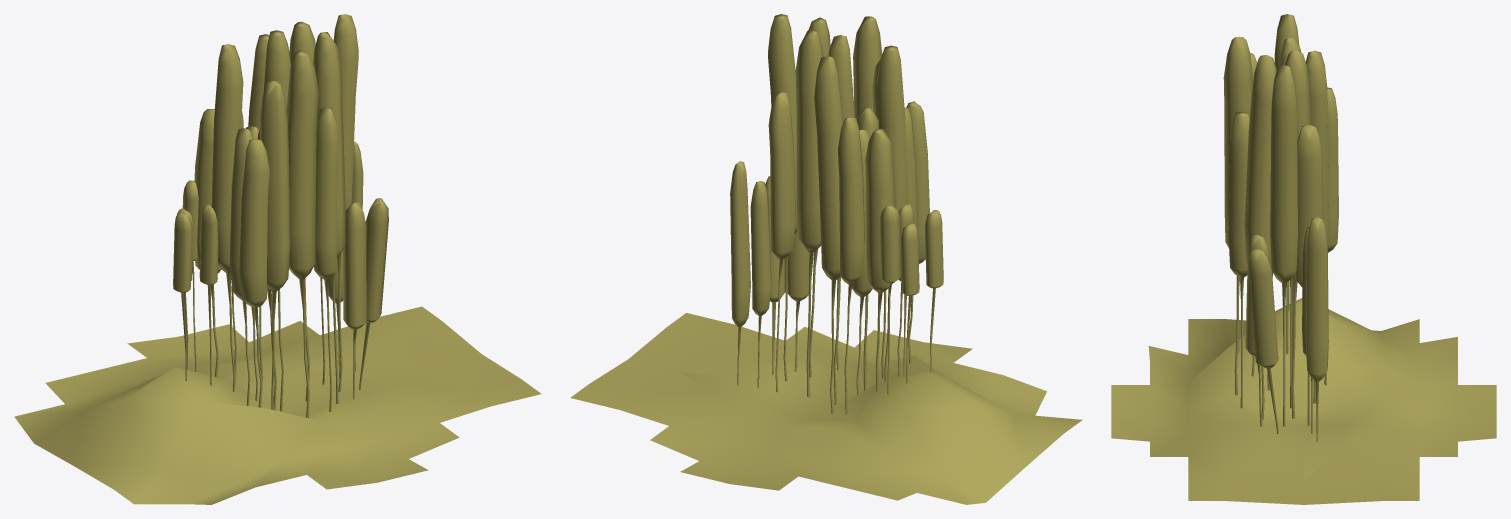
File: shroom34.fbx
3 renders of one model, left to right at view 1: azimuth 30°, elevation 25°; view 2: azimuth 150°, elevation 25°; view 3: azimuth 270°, elevation 25°, orthographic. The views are drawn at different scales.
Visible parts, largest first — view 1: shroom34; view 2: shroom34; view 3: shroom34.
Part boxes in pixels (x1,y1,x2,y2): shroom34: (14,14,541,504); shroom34: (570,14,1082,504); shroom34: (1111,14,1496,504).
Size of the model in its own units: 0.8106 by 0.7729 by 0.6864.
